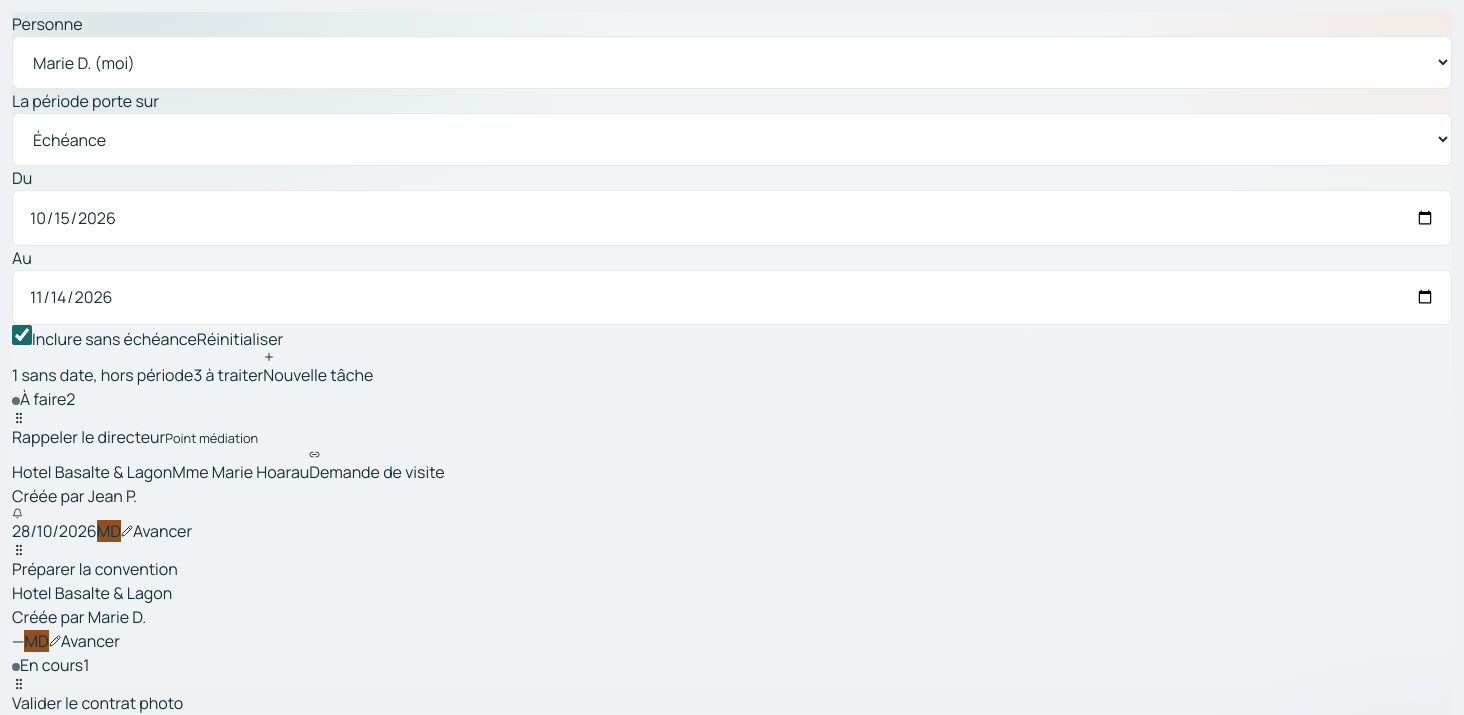
Test: CrmTaches (§61 — kanban Tâches & relances) › 16w — filtre par personne (UUID, jamais un nom) › « Toutes les personnes » révèle celles des autres
Expected: the text "Rappeler le directeur" is shown, [12,426,165,448]
Select "Toutes les personnes" in the dropdown named "Filtrer par personne": point(732, 63) [12,36,1452,89]
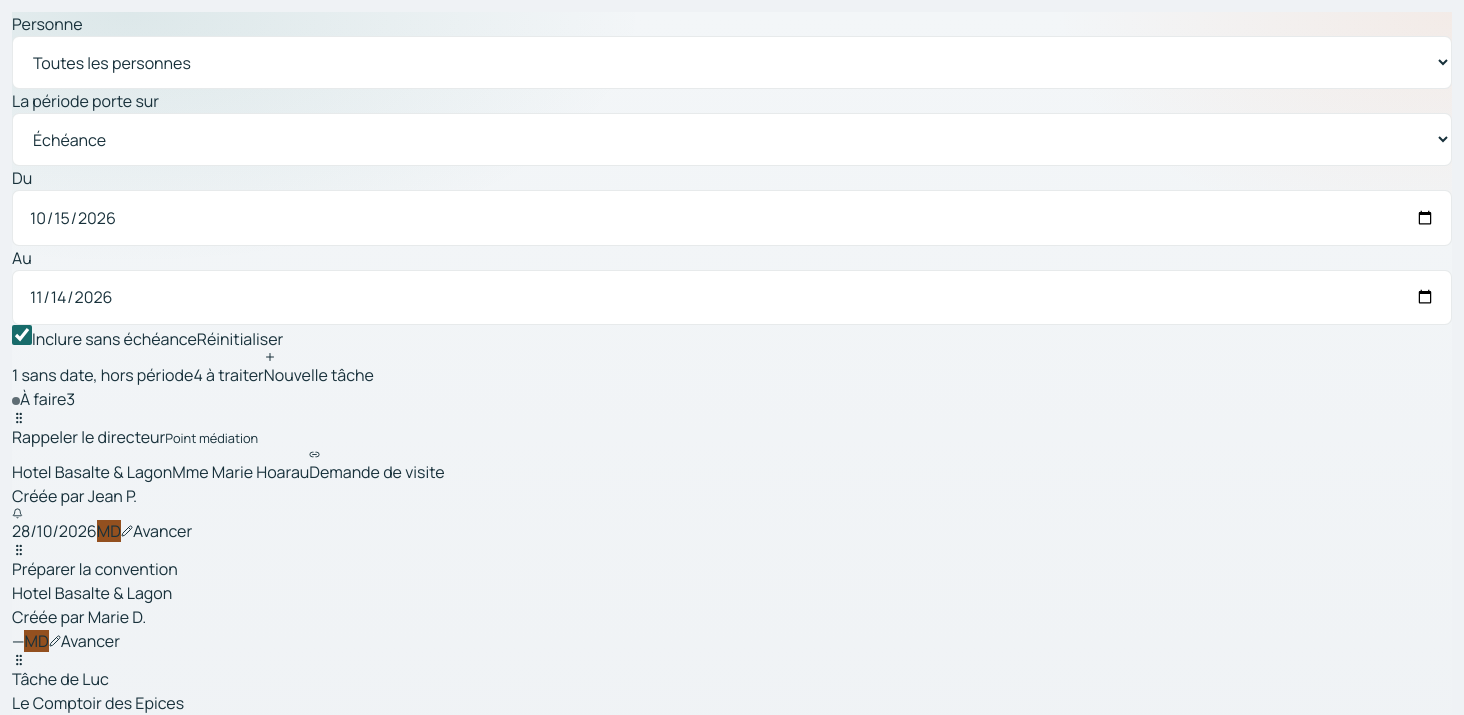
Result: the text "Tâche de Luc" is shown at [12,668,109,690]
